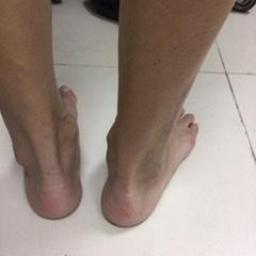Back View -Both Feet-: (4, 72, 217, 232)
